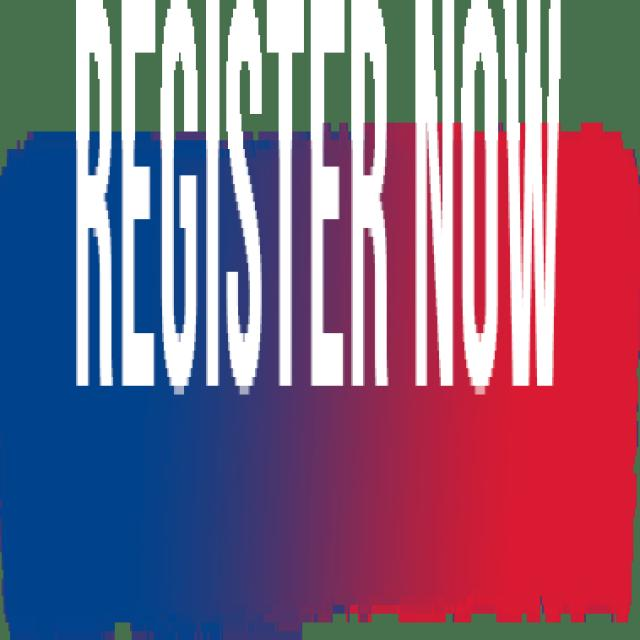Background Image: (0, 0, 638, 622)
Testimonial Quotes: (75, 0, 562, 386)
Text Elements: (414, 0, 562, 377)
